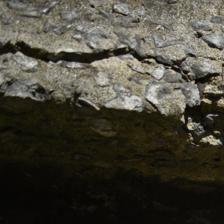Crack: (2, 16, 194, 71)
